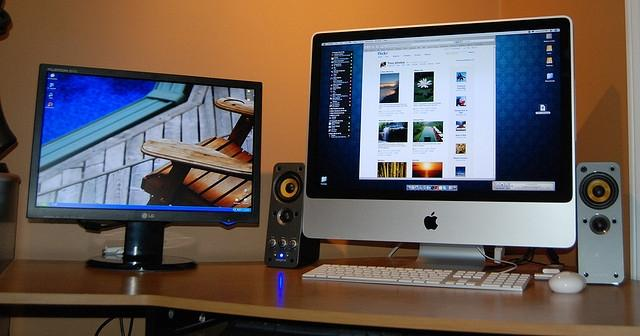apple: (424, 212, 438, 230)
